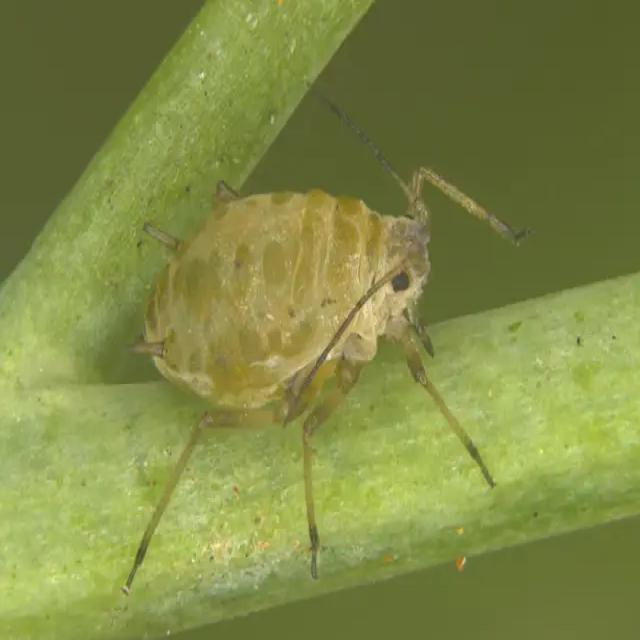Aphid-Grown-: (108, 150, 503, 493)
